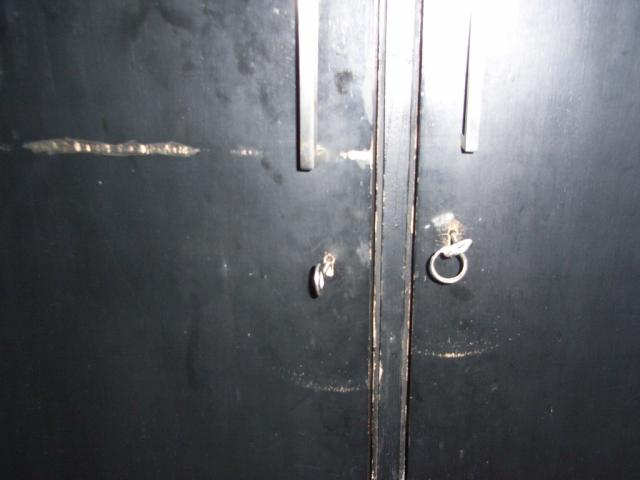Door-handle: (287, 0, 333, 171), (459, 0, 490, 155)
